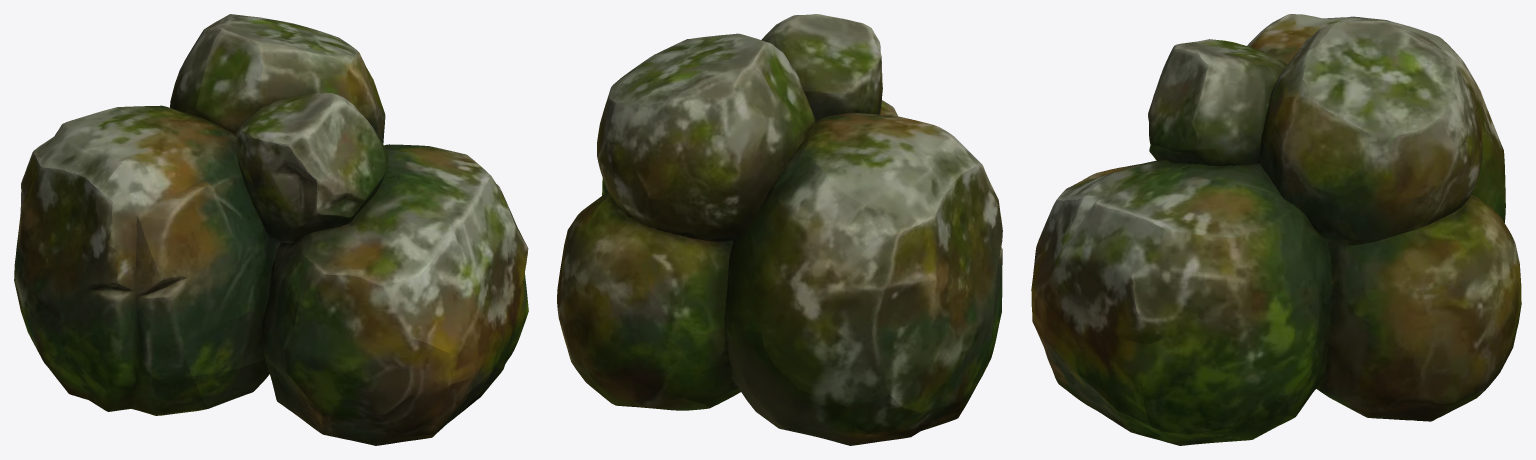
The model's file is env_rocks.glb.
3 renders of one model, left to right at view 1: azimuth 30°, elevation 25°; view 2: azimuth 150°, elevation 25°; view 3: azimuth 270°, elevation 25°, orthographic. The views are drawn at different scales.
Parts seen in each view (by area): view 1: world; view 2: world; view 3: world.
Part boxes in pixels (box(x1,y1,x2,y2)): world: box(14, 14, 528, 445); world: box(557, 14, 1002, 445); world: box(1031, 14, 1521, 445).
Bounding box in the file's own units: 0.45 × 0.3576 × 0.4435.
Materials: 1 (1 with a texture image).
